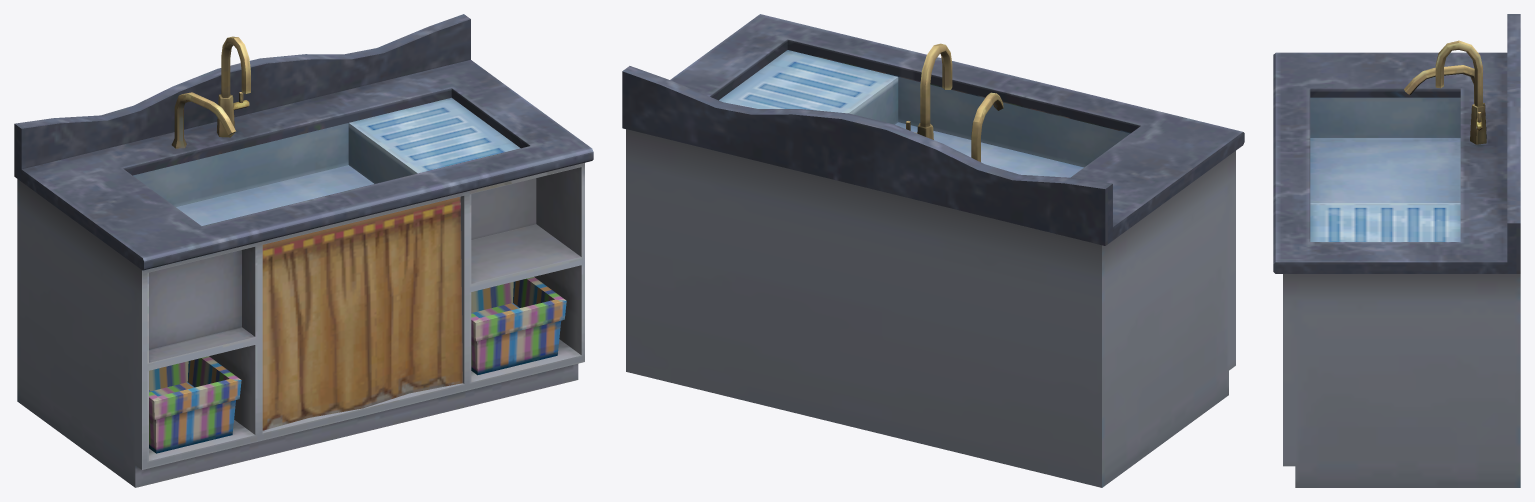
Rendered from furni_0200618.FBX.
The picture shows the model from 3 angles, left to right: view 1: azimuth 30°, elevation 25°; view 2: azimuth 150°, elevation 25°; view 3: azimuth 270°, elevation 25°; orthographic projection. The views are drawn at different scales.
Visible parts, largest first — view 1: furni_0200618; view 2: furni_0200618; view 3: furni_0200618.
Boxes of the visible parts, left/top/right/bottom form: furni_0200618: left=14, top=14, right=593, bottom=487; furni_0200618: left=622, top=14, right=1244, bottom=487; furni_0200618: left=1273, top=14, right=1520, bottom=487.
Bounding box in the file's own units: 160 × 116 × 79.84.
Materials: 1 (1 with a texture image).
